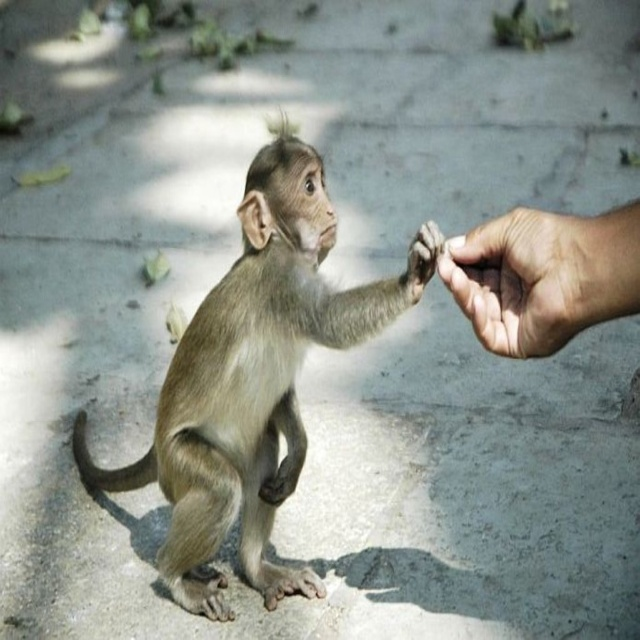Monkey: (73, 104, 446, 622)
